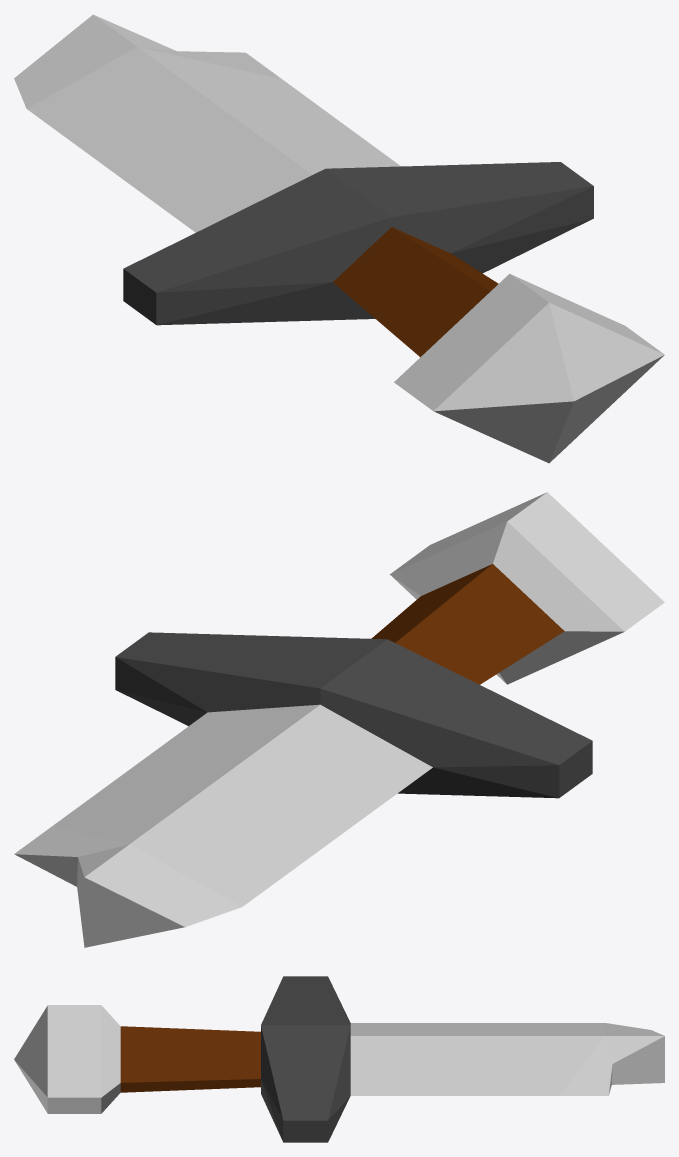
File: SM_SM_Sword_03.fbx
3 renders of one model, top to bottom at view 1: azimuth 30°, elevation 25°; view 2: azimuth 150°, elevation 25°; view 3: azimuth 270°, elevation 25°, orthographic. The views are drawn at different scales.
Visible parts, largest first — view 1: SM_Sword_03; view 2: SM_Sword_03; view 3: SM_Sword_03.
Boxes of the visible parts, <box> form: SM_Sword_03: <box>14,14,664,463</box>; SM_Sword_03: <box>14,492,664,947</box>; SM_Sword_03: <box>14,976,664,1142</box>.
Bounding box in the file's own units: 35.56 × 12.49 × 67.74.
